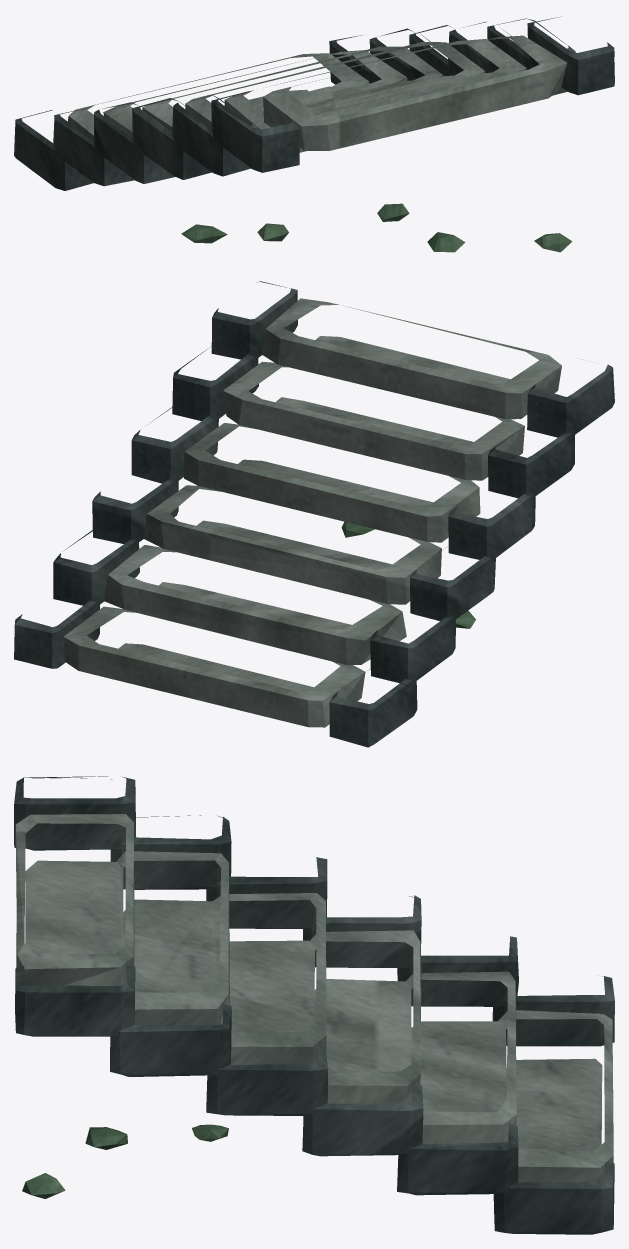
Rendered from 0355_stairs_05.glb.
3 views of the same model, one above another, from view 1: azimuth 30°, elevation 25°; view 2: azimuth 150°, elevation 25°; view 3: azimuth 270°, elevation 25° (orthographic). The views are drawn at different scales.
Parts seen in each view (by area): view 1: stone, stone_dark, moss; view 2: stone, stone_dark; view 3: stone, stone_dark, moss.
Boxes of the visible parts, left/top/right/bottom form: stone: left=68, top=35, right=567, bottom=152; stone_dark: left=14, top=16, right=614, bottom=190; moss: left=181, top=203, right=572, bottom=252; stone: left=63, top=298, right=561, bottom=727; stone_dark: left=14, top=281, right=614, bottom=747; stone: left=15, top=814, right=613, bottom=1182; stone_dark: left=14, top=776, right=614, bottom=1234; moss: left=22, top=1124, right=228, bottom=1198.
Bounding box in the file's own units: 2.32 × 1.27 × 2.76.
Materials: 3 (3 with a texture image).
